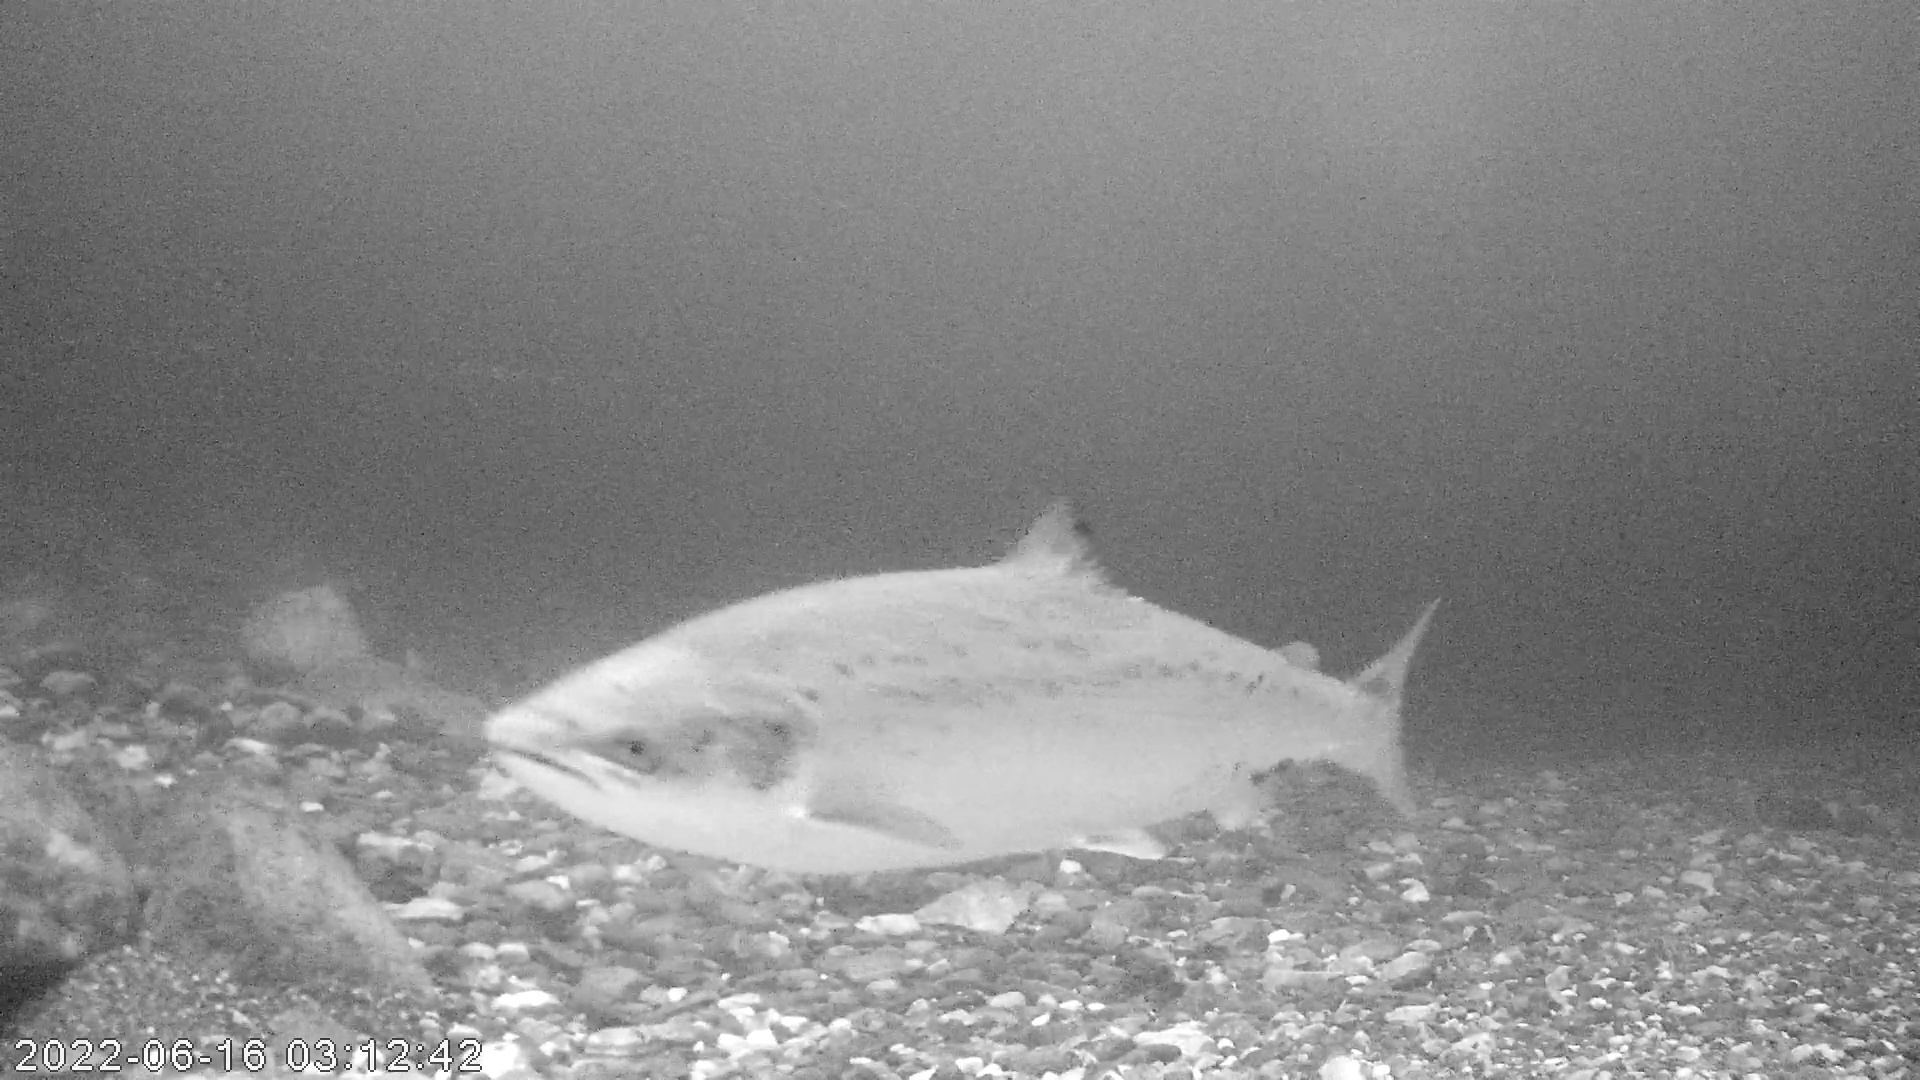salmon: (481, 493, 1443, 880)
